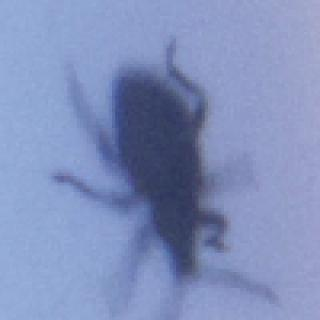bvw: (48, 36, 284, 320)
